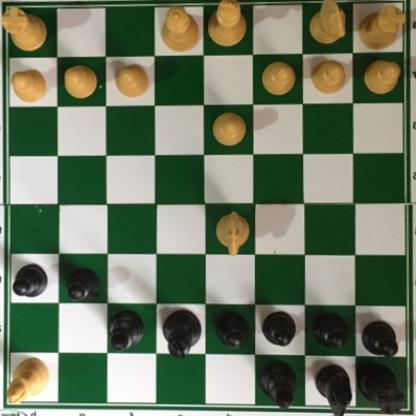black-bishop: (258, 361, 293, 414), (106, 308, 147, 352)
black-king: (160, 306, 202, 362)
black-knight: (315, 359, 353, 415)
black-pawn: (212, 309, 250, 349), (10, 265, 49, 301), (312, 311, 348, 350), (361, 321, 399, 357), (262, 310, 297, 347), (65, 268, 100, 302)
black-rook: (354, 361, 405, 415)
white-bishop: (4, 357, 52, 404)
white-king: (205, 0, 247, 50)
white-knight: (306, 0, 349, 50), (213, 209, 250, 257)
white-pawn: (360, 58, 402, 96), (112, 62, 150, 101), (260, 60, 297, 97), (9, 67, 48, 102), (212, 109, 247, 147), (63, 64, 99, 100), (310, 60, 346, 95)
white-queen: (157, 5, 199, 54)
white-rook: (1, 4, 49, 56), (354, 6, 405, 54)
